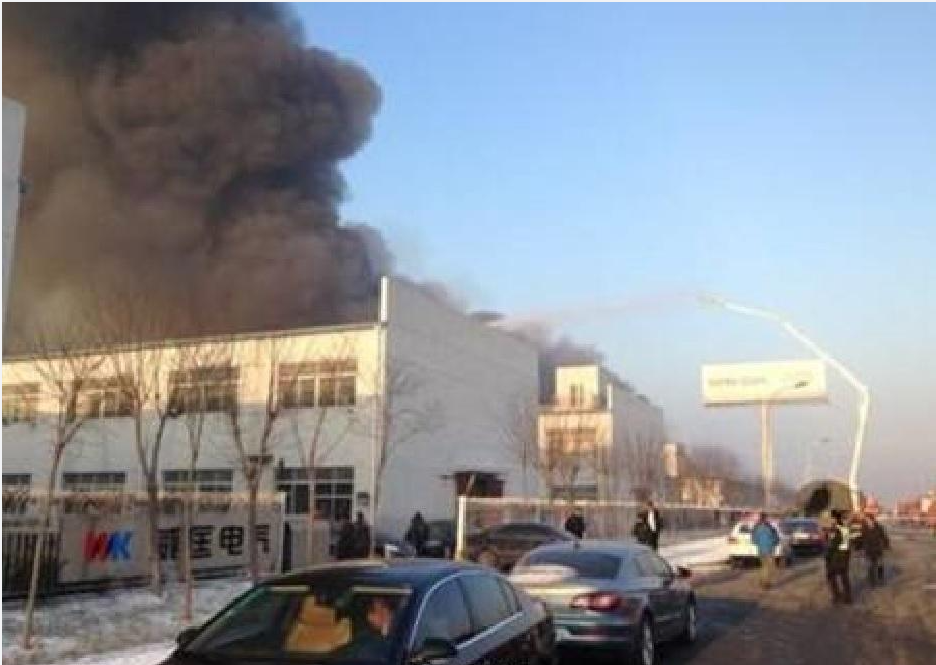喷灌水雾: (480, 288, 720, 334)
